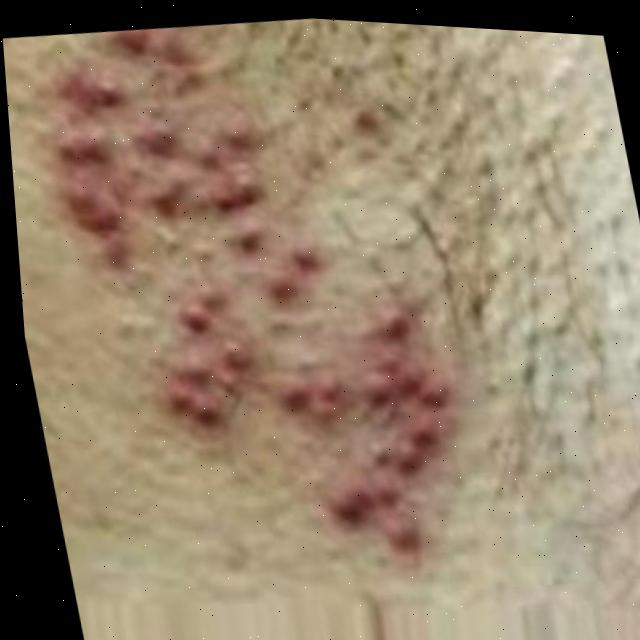Shingles: (22, 1, 492, 606)
